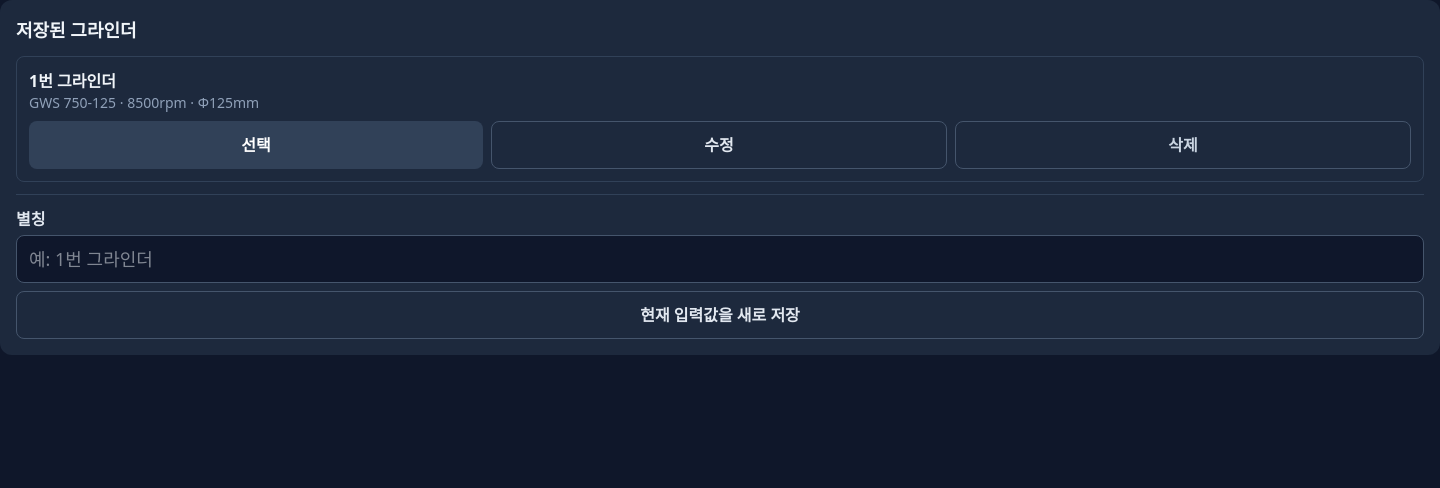
Test: 저장된 그라인더 목록 — 선택은 확인 후에만 적용된다 › 지금 값과 다르면 다르다는 문구로 경고하고, 취소하면 적용하지 않는다
Click the button "선택": (256, 145) [29, 121, 483, 169]
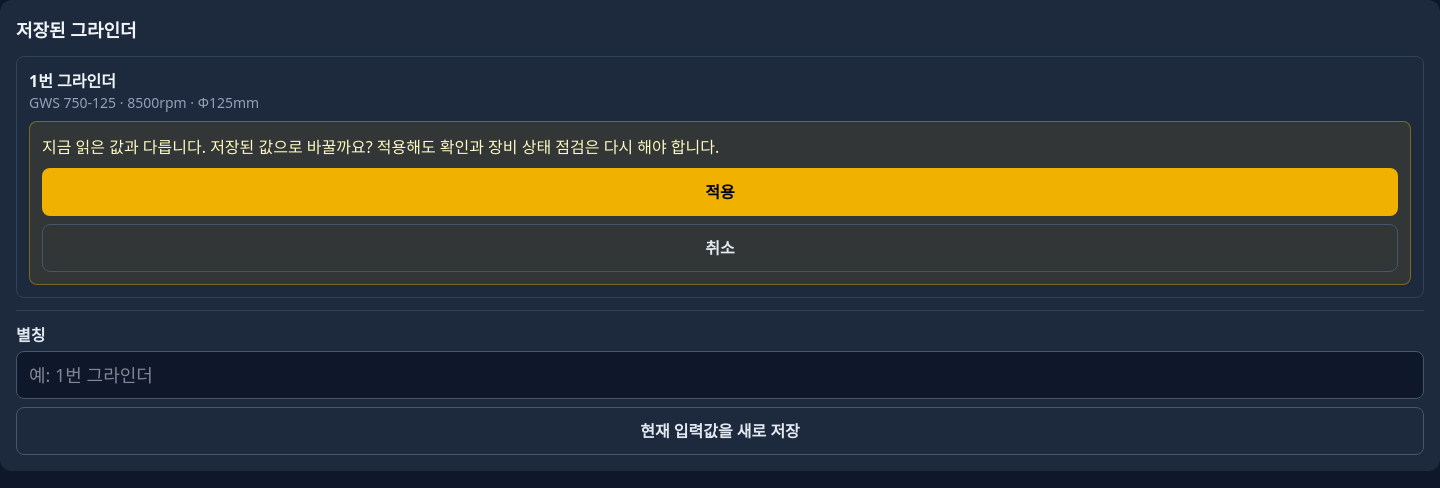
Expected: the text "지금 읽은 값과 다릅니다" is shown, [42, 136, 719, 158]
Click the button "취소": (720, 248) [42, 224, 1398, 272]
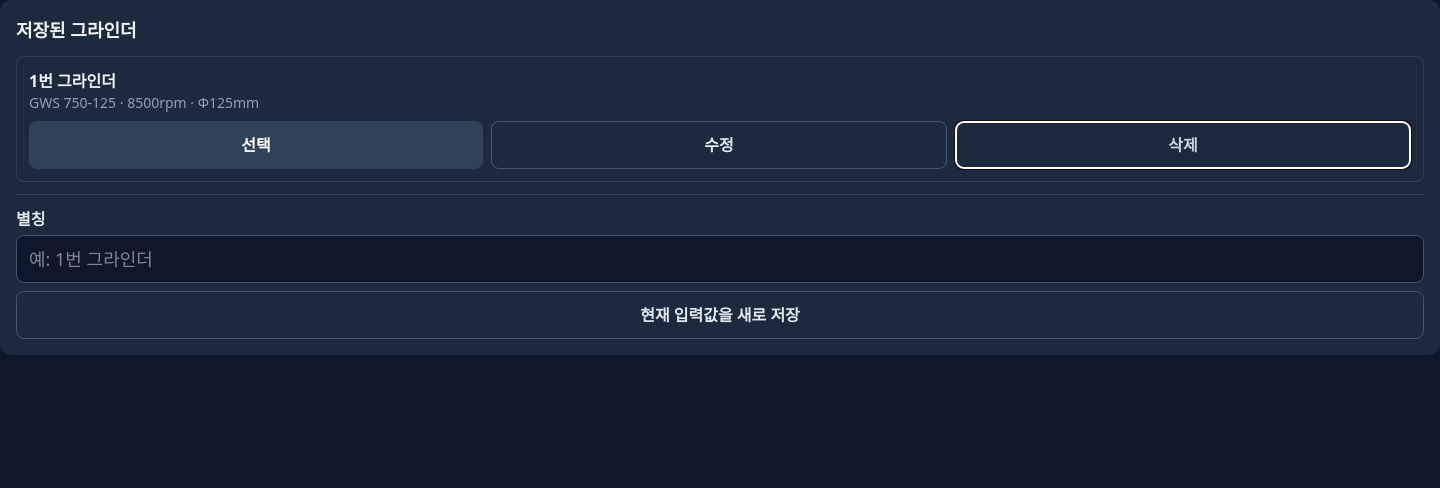
Expected: the text "지금 읽은 값과 다릅니다" is gone
